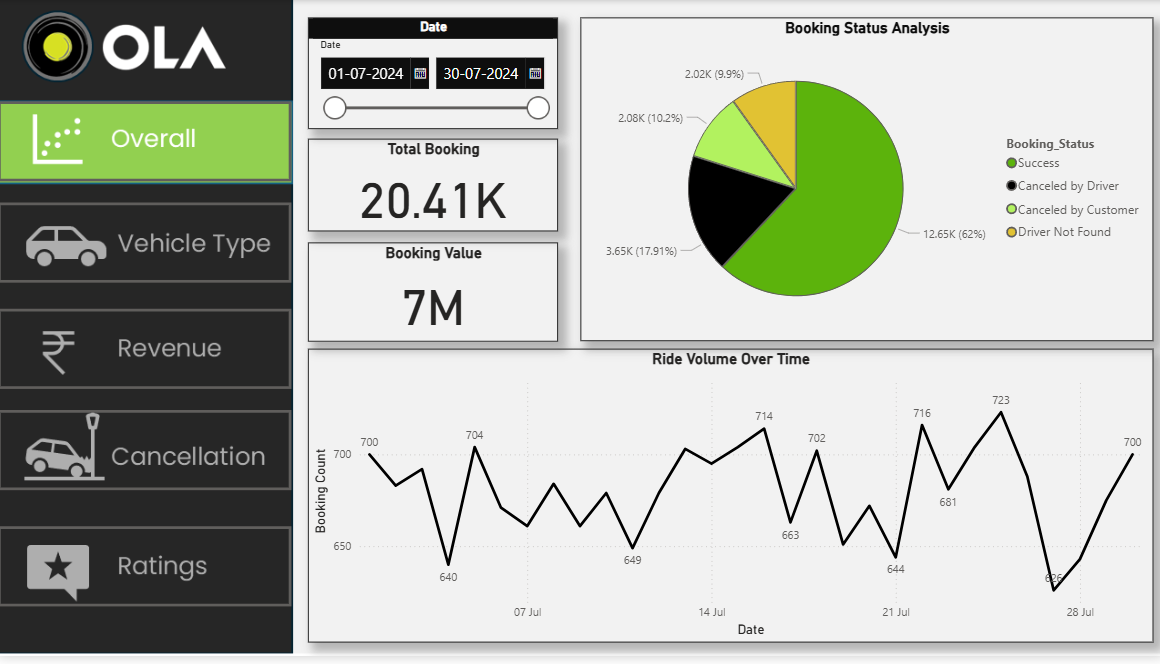

The page's visual inventory and layout, read from the dashboard file:
{"tool":"powerbi","page":{"name":"overall","canvas":[1280,720],"ordinal":0},"visuals":[{"type":"actionButton","box":[0,222,322.1,88.1],"z":0},{"type":"actionButton","box":[0,339,322.1,88.1],"z":1000},{"type":"actionButton","box":[0,450,322.1,88.1],"z":2000},{"type":"actionButton","box":[0,577.9,322.1,88.1],"z":3000},{"type":"actionButton","box":[0,111,322.1,88.1],"z":4000},{"type":"lineChart","title":"Ride Volume Over Time","fields":{"Y":["CountNonNull(July.Booking_ID)"],"Category":["July.Date"]},"box":[340.3,382.8,927.6,322.5],"z":5000},{"type":"pieChart","title":"Booking Status Analysis","fields":{"Category":["July.Booking_Status"],"Y":["CountNonNull(July.Booking_Status)"]},"box":[639.5,19.2,628.5,355.4],"z":6000},{"type":"slicer","title":"Date","fields":{"Values":["July.Date"]},"box":[340.3,19.2,274.4,122.1],"z":7000},{"type":"card","title":"Total Booking","fields":{"Values":["Count(July.Booking_ID)"]},"box":[340.3,152.3,274.4,101.5],"z":8000},{"type":"card","title":"Booking Value","fields":{"Values":["Sum(July.Booking_Value)"]},"box":[340.3,266.2,274.4,108.4],"z":9000}]}

Visuals, with their boxes in screenshot pixels (x1, y1, x2, y2), scaled from the page's 1280x720 canvas onto the 1160x664 screenshot:
actionButton: l=0, t=205, r=292, b=286
actionButton: l=0, t=313, r=292, b=394
actionButton: l=0, t=415, r=292, b=496
actionButton: l=0, t=533, r=292, b=614
actionButton: l=0, t=102, r=292, b=184
"Ride Volume Over Time" lineChart: l=308, t=353, r=1149, b=650
"Booking Status Analysis" pieChart: l=580, t=18, r=1149, b=345
"Date" slicer: l=308, t=18, r=557, b=130
"Total Booking" card: l=308, t=140, r=557, b=234
"Booking Value" card: l=308, t=245, r=557, b=345
